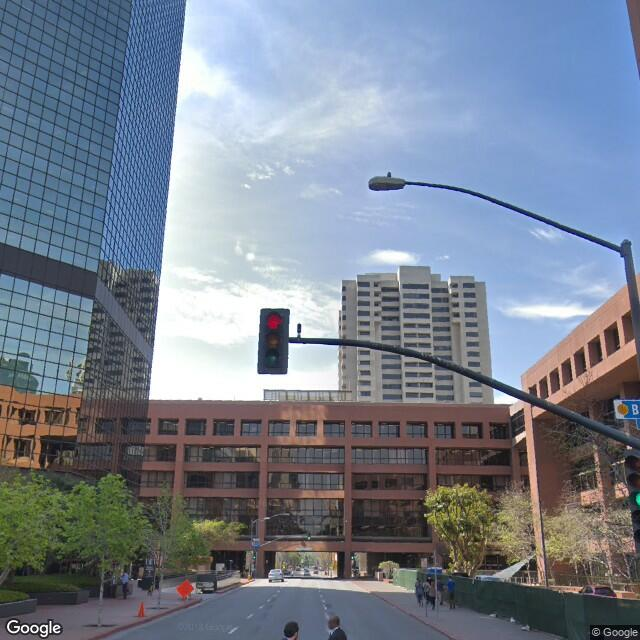light: (365, 176, 414, 193)
window: (267, 415, 294, 441), (378, 421, 401, 439)
